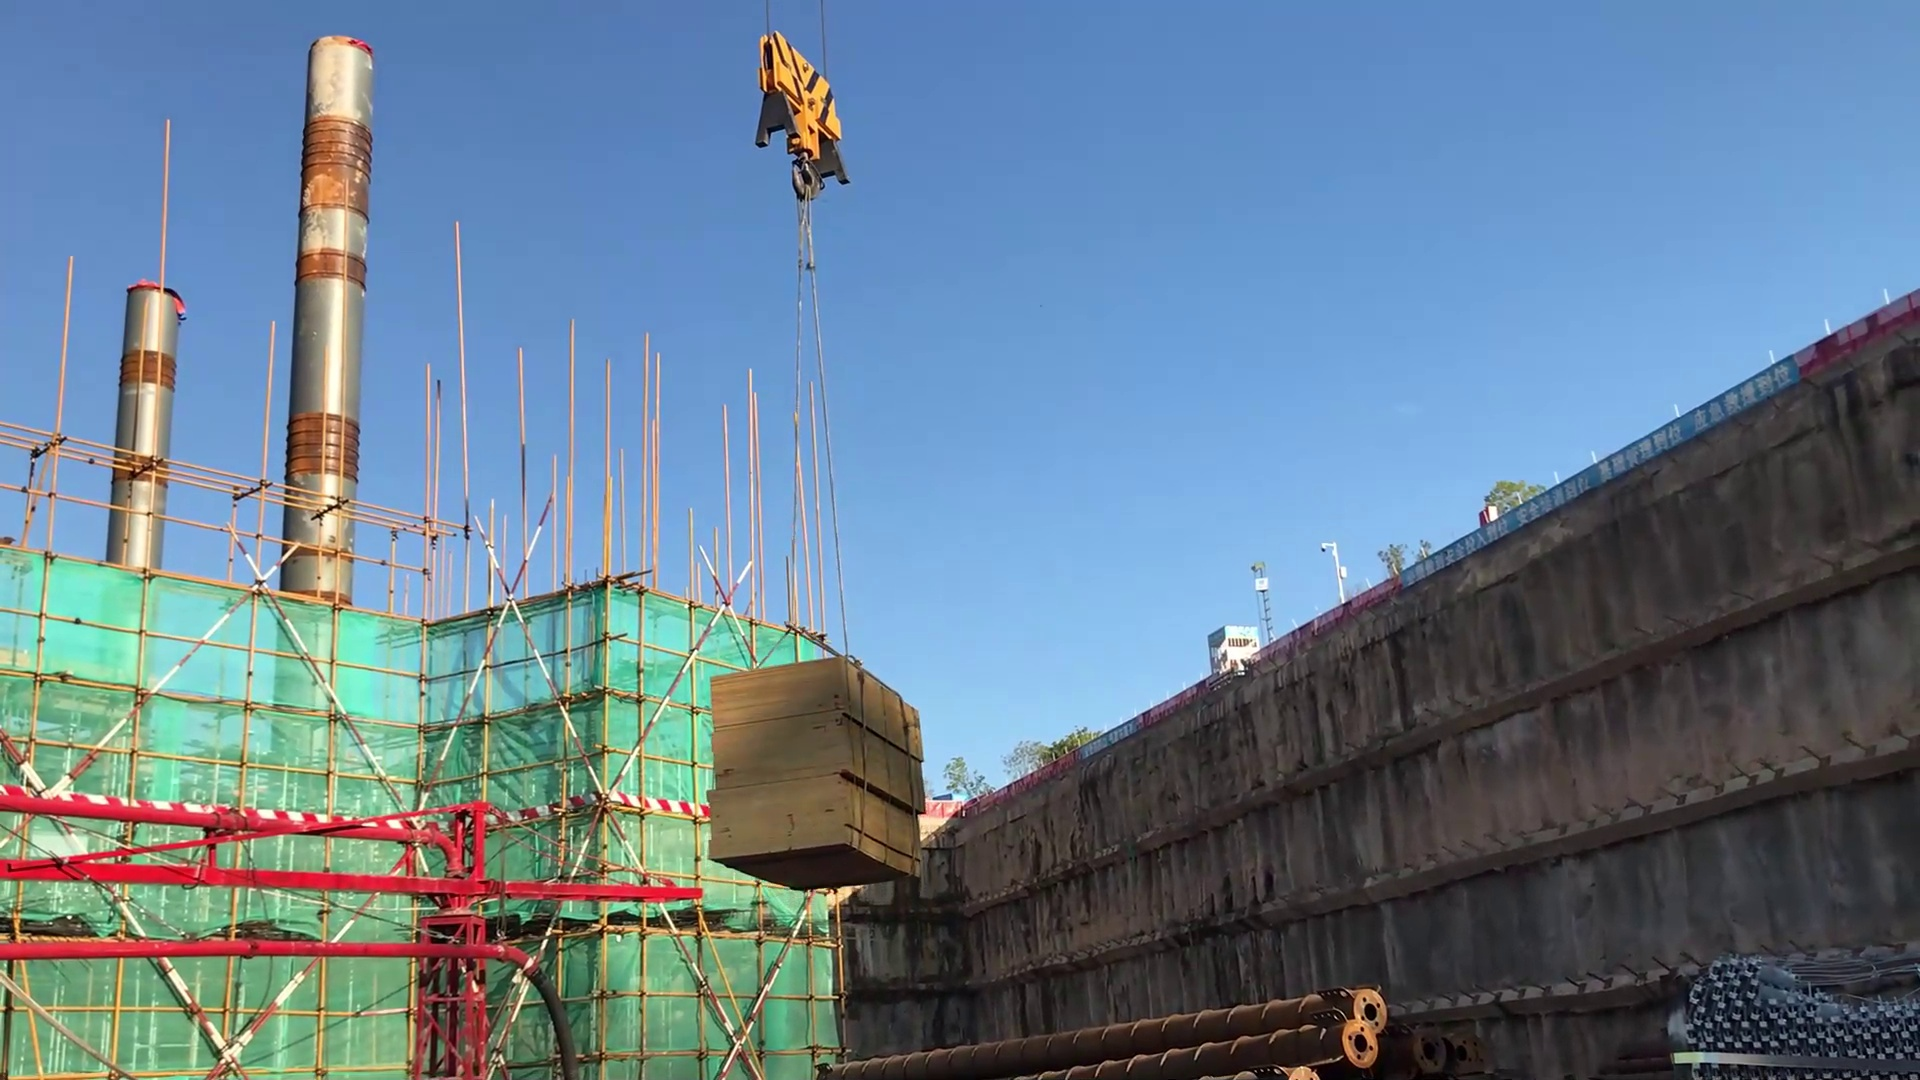board: (709, 654, 936, 895)
hook: (720, 13, 899, 360)
scaffold: (1672, 924, 1920, 1073)
slogan: (1404, 353, 1791, 597), (1077, 719, 1135, 764)
